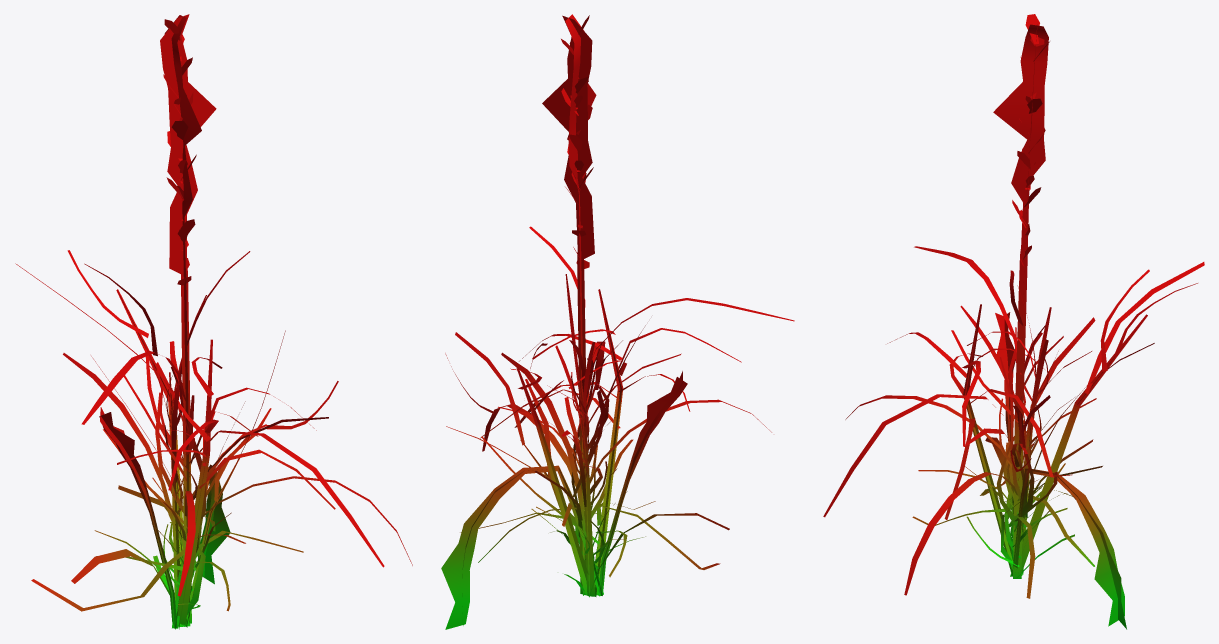
Rendered from Var5_LOD2.fbx.
3 renders of one model, left to right at view 1: azimuth 30°, elevation 25°; view 2: azimuth 150°, elevation 25°; view 3: azimuth 270°, elevation 25°, orthographic. The views are drawn at different scales.
Parts seen in each view (by area): view 1: _87fd_Var5_LOD2; view 2: _87fd_Var5_LOD2; view 3: _87fd_Var5_LOD2.
Part boxes in pixels (x1,y1,x2,y2): _87fd_Var5_LOD2: [15, 14, 412, 629]; _87fd_Var5_LOD2: [441, 14, 794, 629]; _87fd_Var5_LOD2: [823, 14, 1204, 629].
Size of the model in its own units: 19.96 by 36.03 by 21.77.
